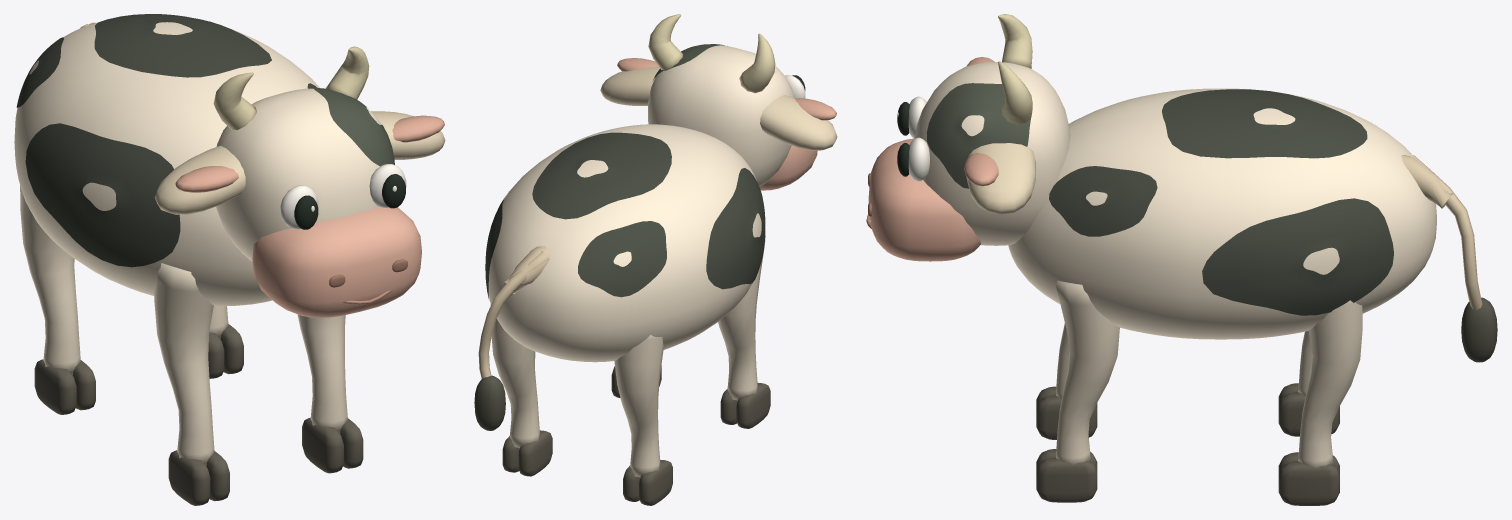
File: cow.gltf
The picture shows the model from 3 angles, left to right: view 1: azimuth 30°, elevation 25°; view 2: azimuth 150°, elevation 25°; view 3: azimuth 270°, elevation 25°; orthographic projection. The views are drawn at different scales.
Visible parts, largest first — view 1: sculpted-shoulders-belly, head-and-forehead, flush-coat-marking-1, soft-pink-muzzle, curved-leg-2, flush-coat-marking-2, curved-leg-0, curved-leg-3, ear--1, forehead-coat-marking, cloven-hoof-2-toe--1, cloven-hoof-0-toe--1 (+16 smaller); view 2: sculpted-shoulders-belly, head-and-forehead, flush-coat-marking-2, flush-coat-marking-1, flush-coat-marking-4, curved-leg-0, curved-leg-1, curved-leg-2, ear--1, ear-1, curving-tail, tail-tuft (+14 smaller); view 3: sculpted-shoulders-belly, flush-coat-marking-0, flush-coat-marking-2, head-and-forehead, soft-pink-muzzle, curved-leg-3, curved-leg-1, flush-coat-marking-3, forehead-coat-marking, ear-1, cloven-hoof-3-toe-1, cloven-hoof-1-toe-1 (+9 smaller).
Part boxes in pixels (box(x1,y1,x2,y2)): sculpted-shoulders-belly: box(14, 22, 319, 306); head-and-forehead: box(216, 88, 381, 261); flush-coat-marking-1: box(25, 123, 180, 267); soft-pink-muzzle: box(252, 207, 421, 317); curved-leg-2: box(154, 263, 214, 465); flush-coat-marking-2: box(94, 14, 271, 77); curved-leg-0: box(20, 185, 80, 374); curved-leg-3: box(297, 314, 347, 432); ear--1: box(155, 145, 245, 214); forehead-coat-marking: box(313, 87, 394, 166); cloven-hoof-2-toe--1: box(168, 450, 210, 505); cloven-hoof-0-toe--1: box(34, 359, 76, 414); sculpted-shoulders-belly: box(488, 124, 761, 362); head-and-forehead: box(648, 45, 794, 186); flush-coat-marking-2: box(532, 132, 671, 219); flush-coat-marking-1: box(706, 168, 765, 289); flush-coat-marking-4: box(578, 221, 666, 297); curved-leg-0: box(614, 335, 663, 477); curved-leg-1: box(490, 304, 540, 448); curved-leg-2: box(718, 236, 765, 400); ear--1: box(760, 95, 837, 150); ear-1: box(600, 66, 659, 105); curving-tail: box(478, 251, 549, 378); tail-tuft: box(474, 375, 505, 430); sculpted-shoulders-belly: box(1008, 88, 1436, 339); flush-coat-marking-0: box(1202, 198, 1393, 315); flush-coat-marking-2: box(1162, 89, 1367, 158); head-and-forehead: box(914, 62, 1070, 245); soft-pink-muzzle: box(868, 138, 980, 261); curved-leg-3: box(1056, 280, 1119, 465); curved-leg-1: box(1298, 300, 1362, 468); flush-coat-marking-3: box(1049, 166, 1157, 236); forehead-coat-marking: box(926, 83, 1031, 188); ear-1: box(966, 143, 1035, 214); cloven-hoof-3-toe-1: box(1036, 458, 1097, 502); cloven-hoof-1-toe-1: box(1278, 461, 1339, 505).
Bounding box in the file's own units: 1.19 × 1.79 × 2.39.
